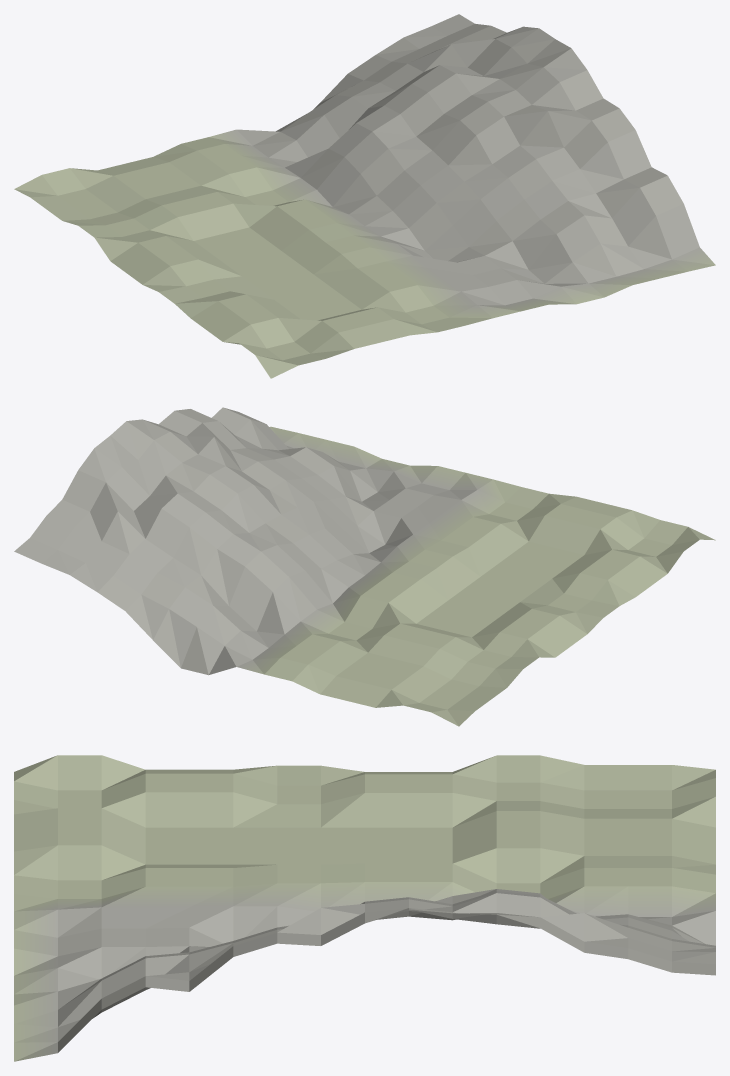
The picture shows the model from 3 angles, top to bottom: view 1: azimuth 30°, elevation 25°; view 2: azimuth 150°, elevation 25°; view 3: azimuth 270°, elevation 25°; orthographic projection. The views are drawn at different scales.
Bounding box in the file's own units: 32 × 8.54 × 32.
